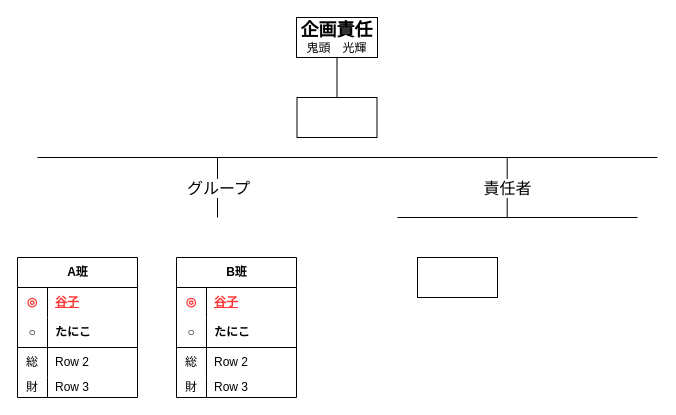
Some shapes in this 676 by 415 pixel diagram are drawn without their labels. Each missing label, with the centre of its shape:
"補佐 木村 友哉" goes at (x=336, y=117).
"責任者 鬼頭" goes at (x=457, y=277).
